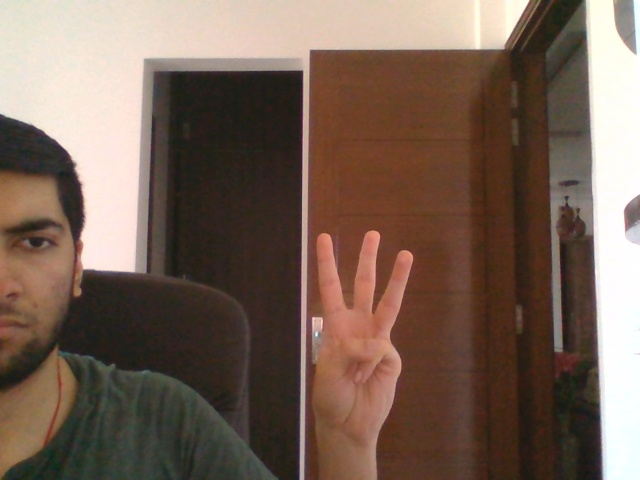LetterW: (312, 227, 415, 446)
